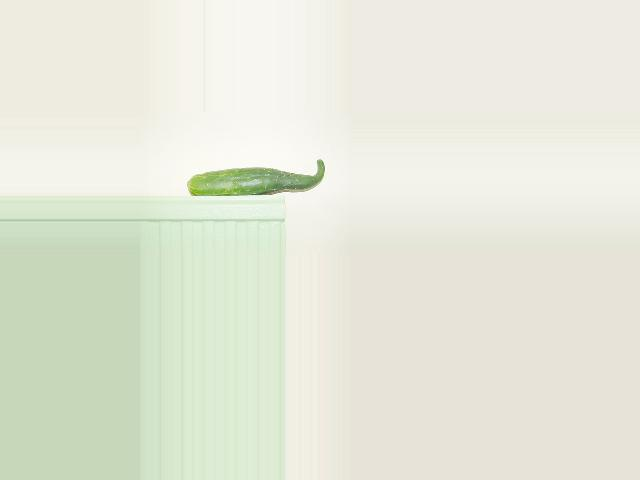cucumber: (187, 159, 325, 196)
